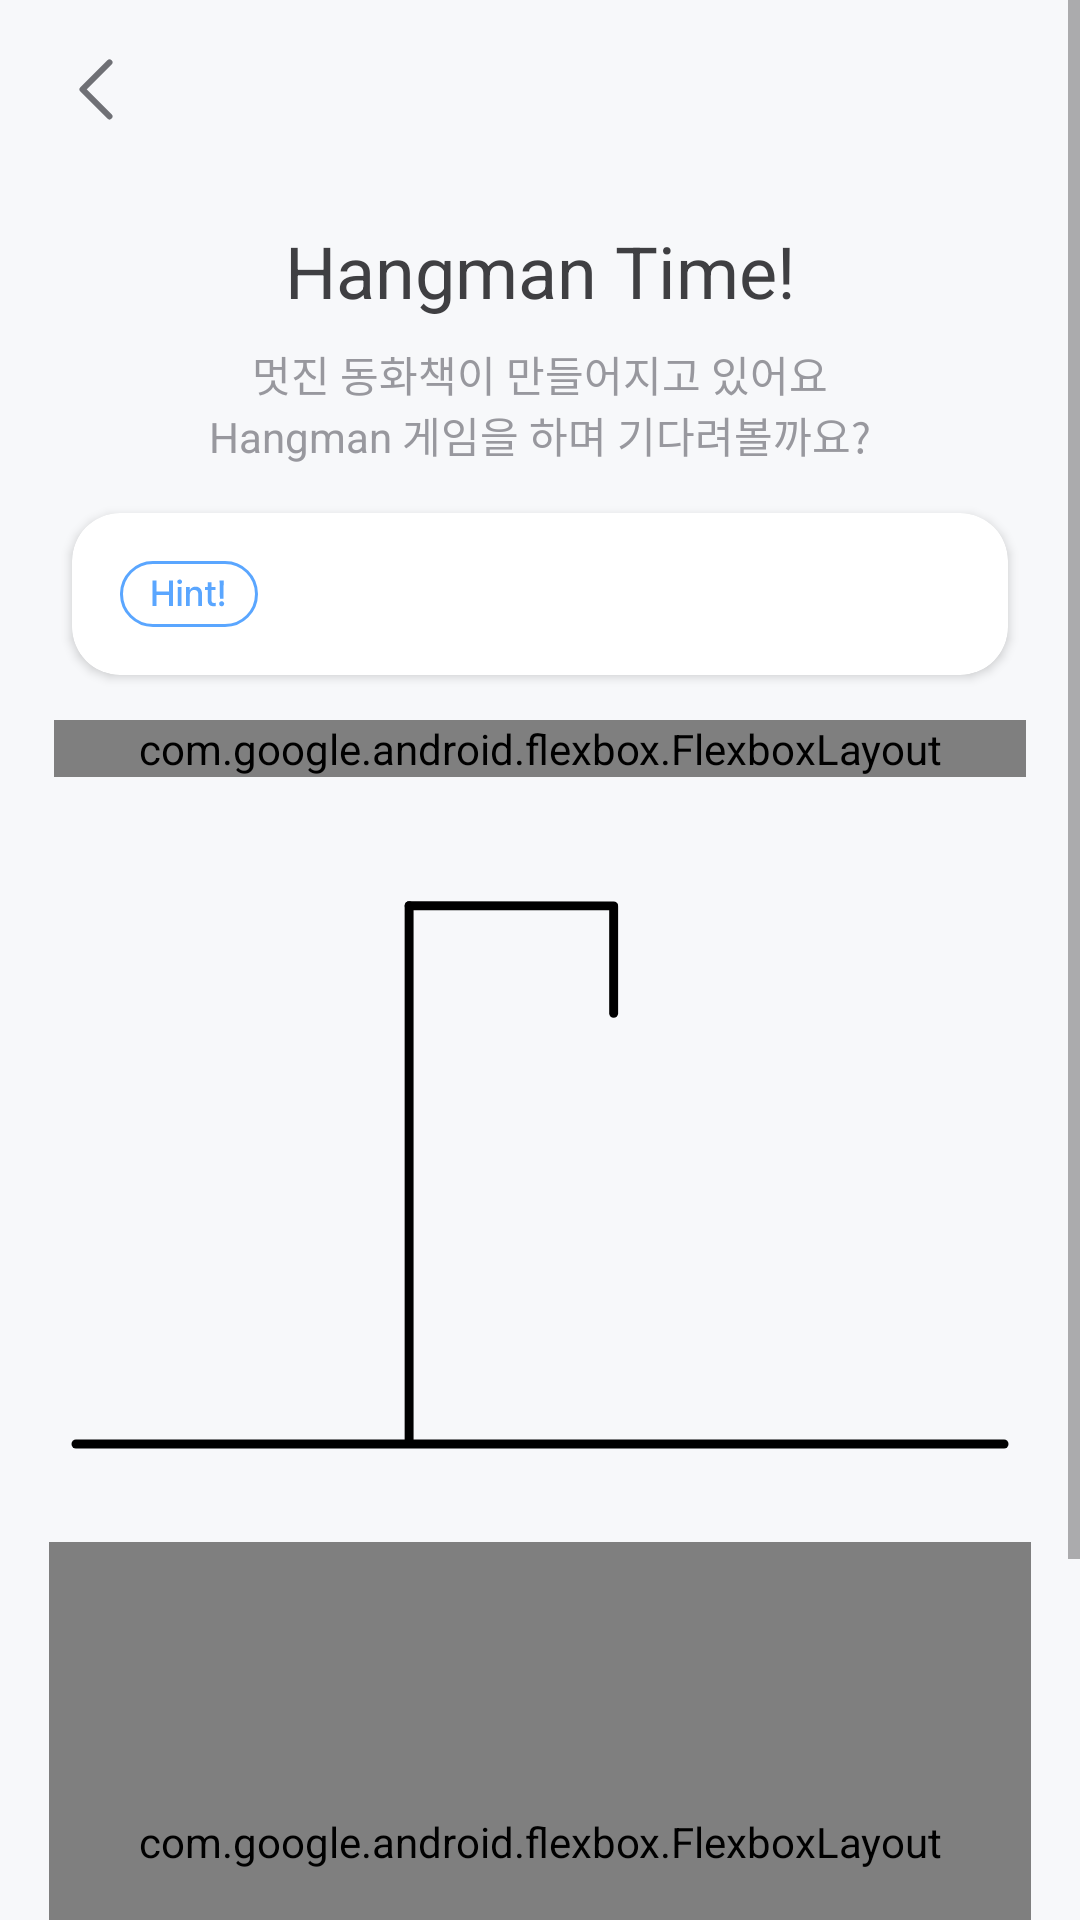

Named icons in this screenshot (1080x1920) and their centers, (x,y):
chevron back: (96,89)
